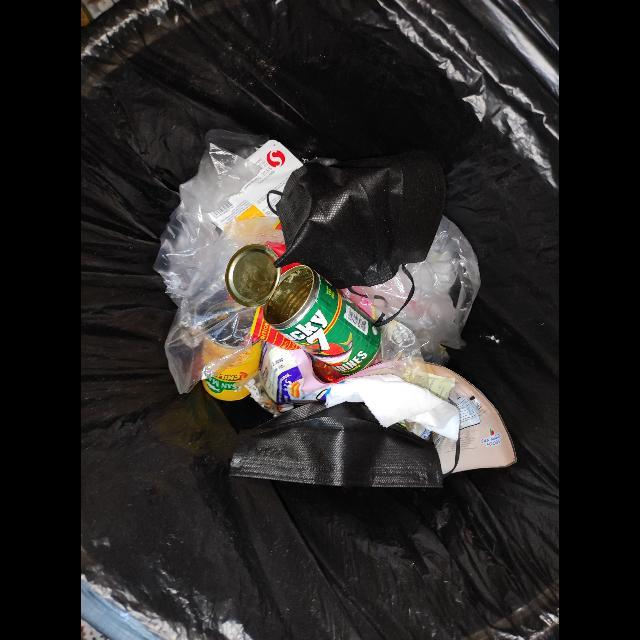metal: (225, 244, 382, 376), (230, 400, 446, 490), (201, 338, 263, 402)
paper: (325, 374, 460, 441)
plastic: (249, 306, 517, 476), (153, 144, 286, 395), (355, 216, 482, 353)
wrapper: (210, 140, 303, 230)
